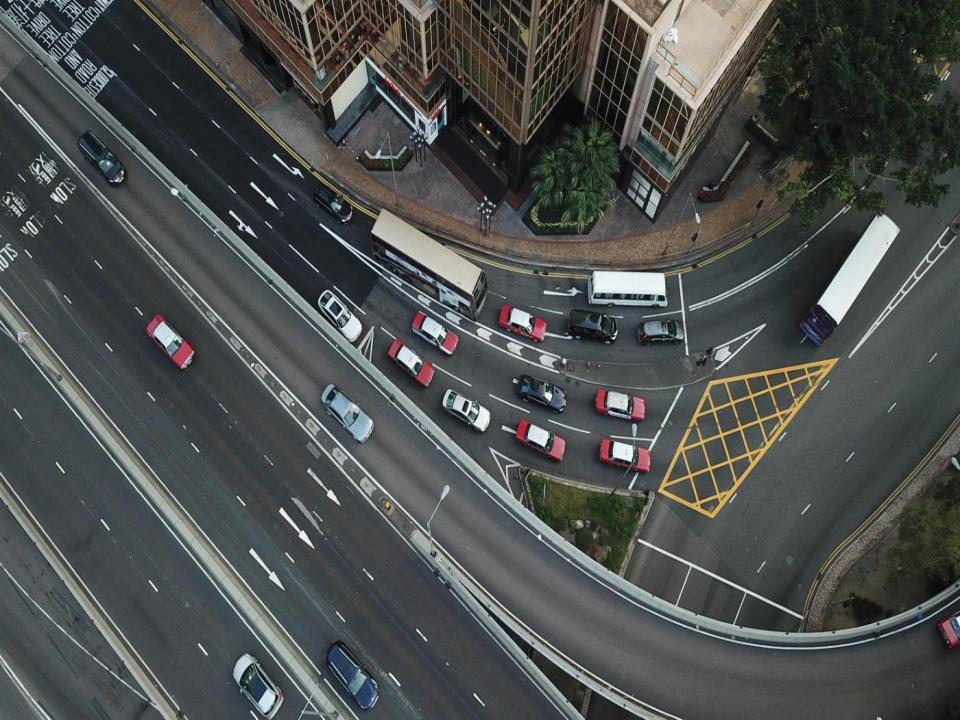bus: (799, 195, 898, 351), (372, 204, 487, 318), (586, 271, 671, 306)
car: (326, 640, 380, 710), (228, 647, 284, 713), (80, 124, 130, 190), (321, 383, 374, 440), (148, 314, 194, 368), (443, 386, 492, 434), (320, 290, 361, 347), (518, 418, 567, 464), (388, 339, 434, 386), (518, 373, 566, 414), (412, 310, 456, 354), (599, 437, 651, 473), (499, 307, 549, 343), (596, 388, 646, 423), (309, 184, 355, 222), (565, 312, 621, 340), (636, 318, 686, 348)
